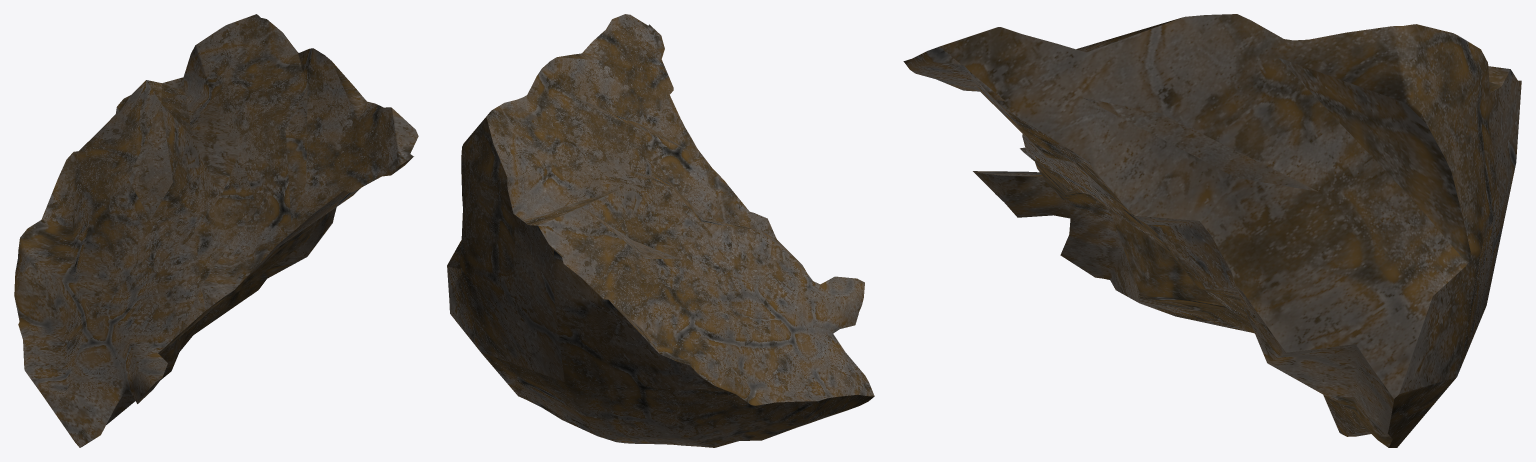
The model's file is RockShard3.fbx.
3 views of the same model, side by side, from view 1: azimuth 30°, elevation 25°; view 2: azimuth 150°, elevation 25°; view 3: azimuth 270°, elevation 25° (orthographic). The views are drawn at different scales.
Parts seen in each view (by area): view 1: RockShard3; view 2: RockShard3; view 3: RockShard3.
Part boxes in pixels (<box>): RockShard3: <box>14,14,418,447</box>; RockShard3: <box>447,14,874,447</box>; RockShard3: <box>903,14,1521,447</box>.
Bounding box in the file's own units: 72 × 67.57 × 73.64.
